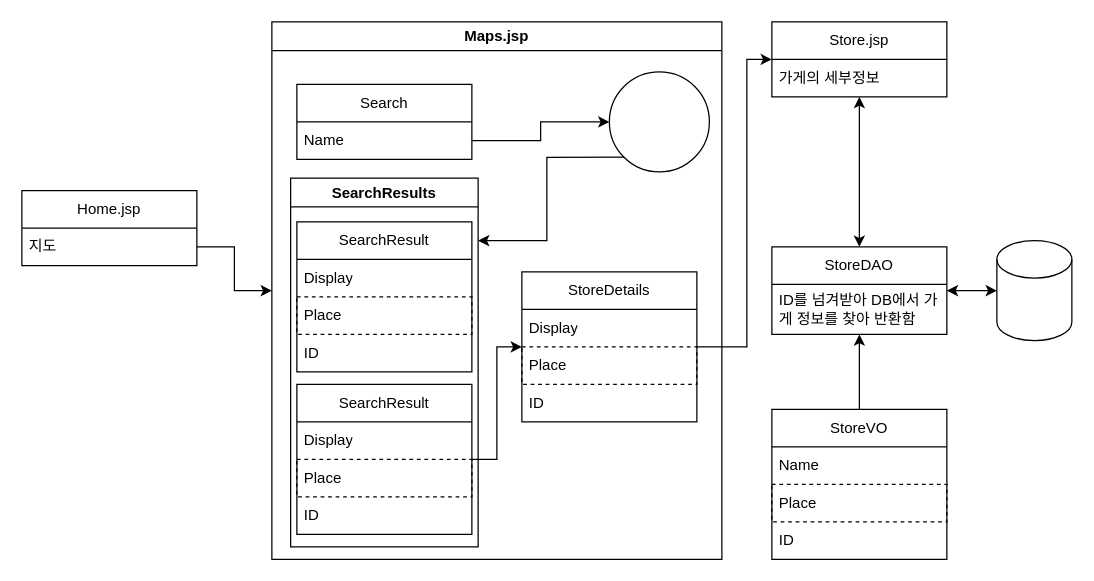
This 1094x581 diagram has some shape labels left out. The centre of each missing label's shape, as x and y in pixels:
"Kakao Maps API" belongs at (658,121).
"Store DB" belongs at (1034,290).
